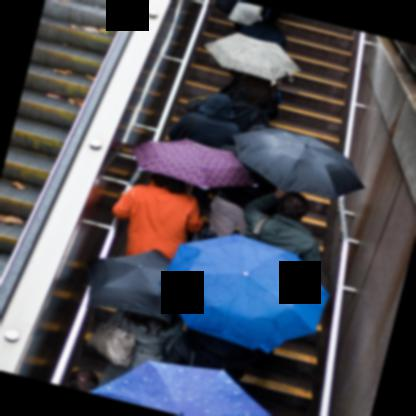handbag: (86, 322, 137, 370), (226, 0, 264, 27)
